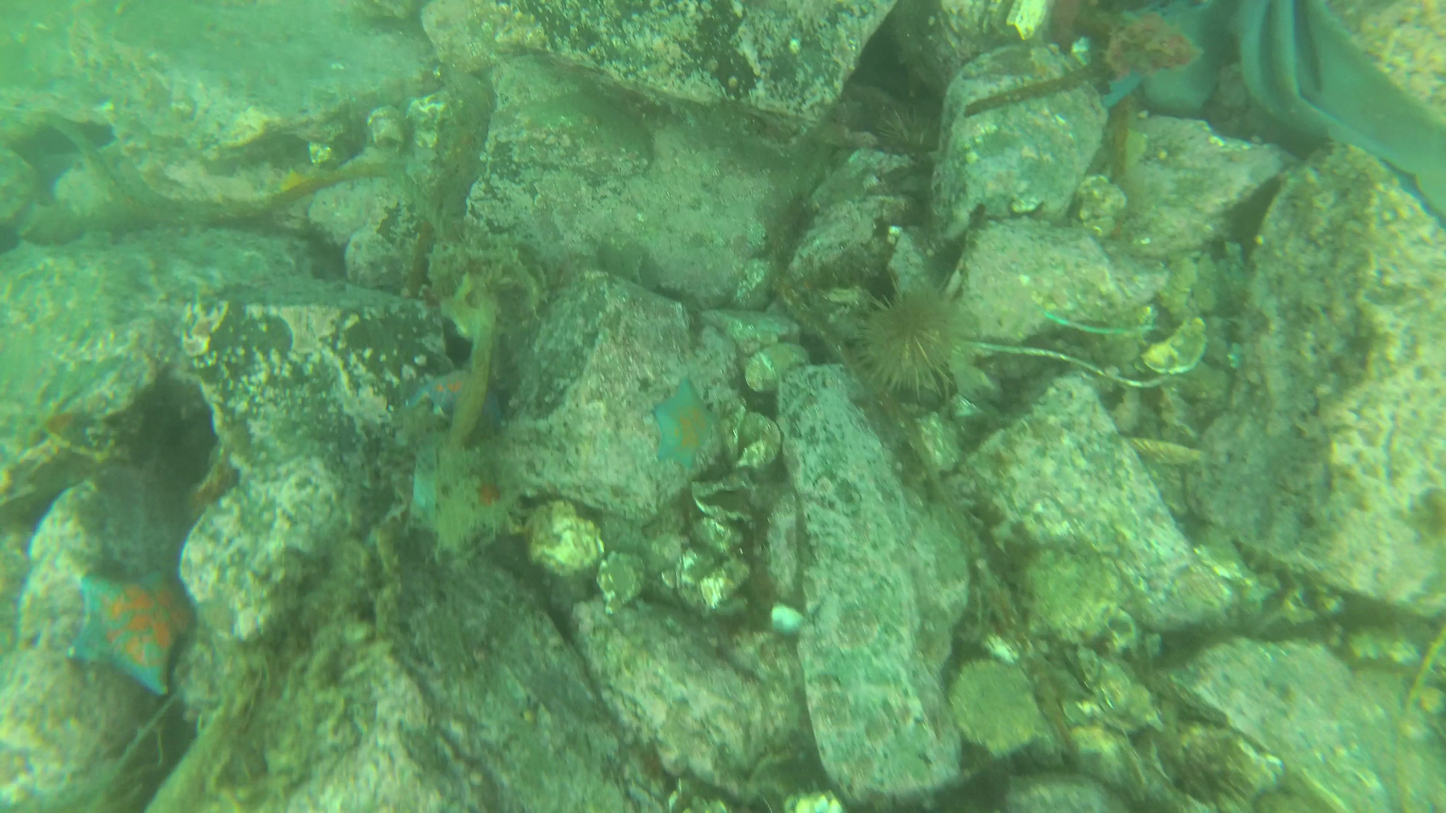holothurian: (67, 570, 193, 695), (648, 380, 722, 472), (410, 367, 506, 429)
starfish: (856, 289, 968, 392)
